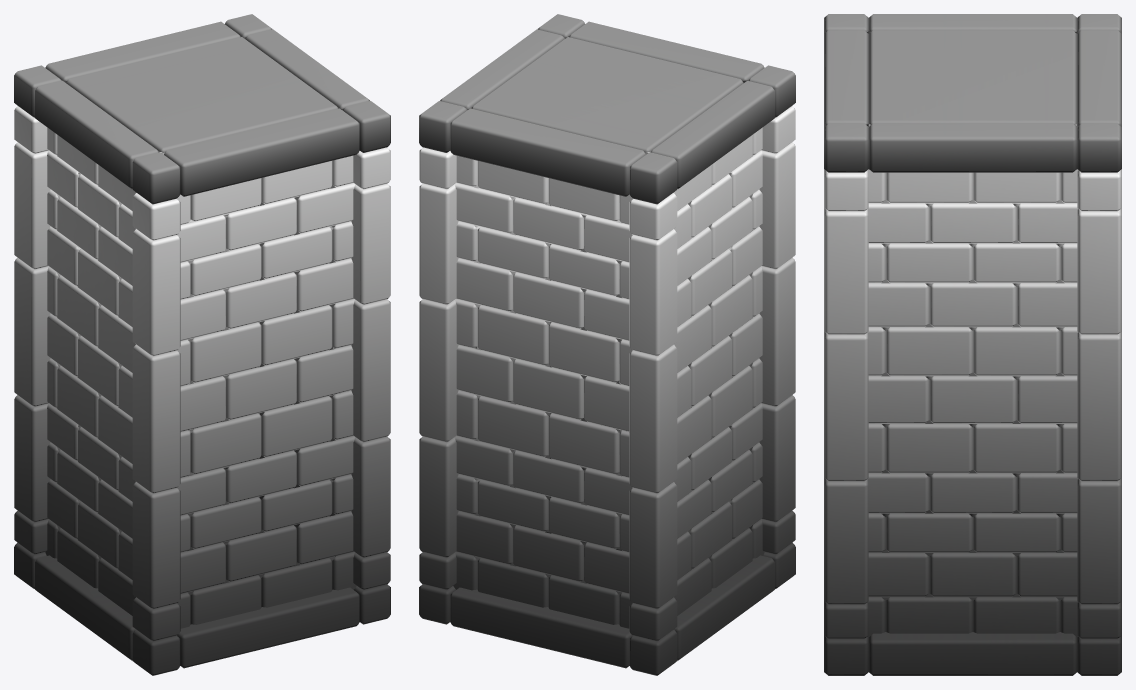
File: SM_Stone_Body_07.fbx
3 views of the same model, side by side, from view 1: azimuth 30°, elevation 25°; view 2: azimuth 150°, elevation 25°; view 3: azimuth 270°, elevation 25° (orthographic). The views are drawn at different scales.
Parts seen in each view (by area): view 1: SM_Stone_Body_07; view 2: SM_Stone_Body_07; view 3: SM_Stone_Body_07.
Part boxes in pixels (x1,y1,x2,y2): SM_Stone_Body_07: (14,14,390,675); SM_Stone_Body_07: (419,14,795,675); SM_Stone_Body_07: (824,14,1121,675).
Size of the model in its own units: 0.9996 by 2 by 0.9996.
